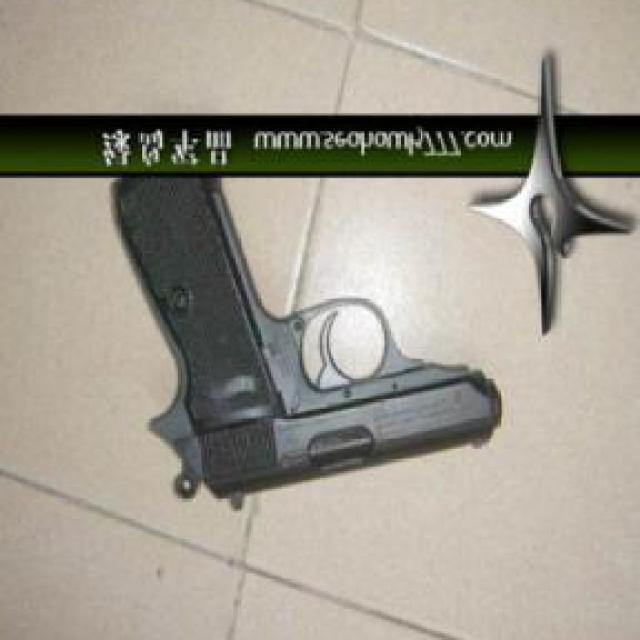pistol: (111, 174, 503, 546)
